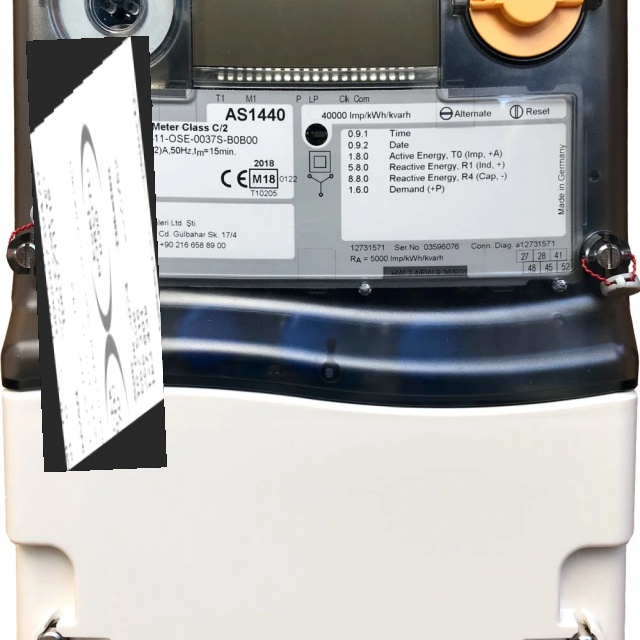electricity-bill: (26, 36, 166, 472)
